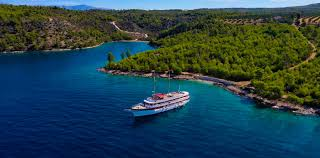boat: (132, 89, 190, 118)
